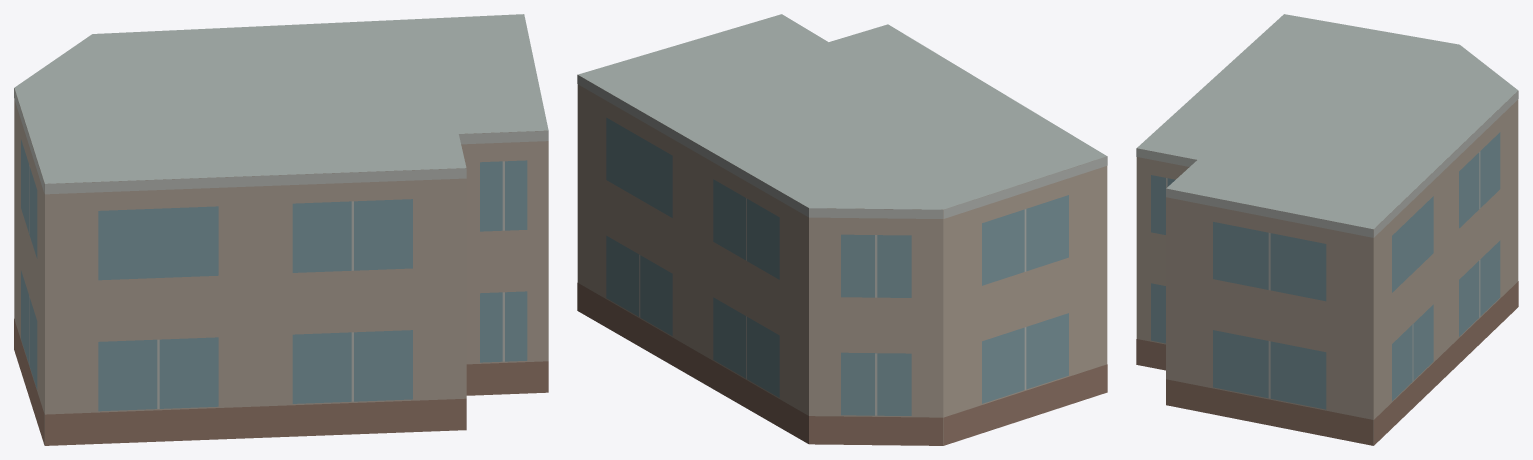
File: survey-upis-32819794.glb
3 renders of one model, left to right at view 1: azimuth 30°, elevation 25°; view 2: azimuth 150°, elevation 25°; view 3: azimuth 270°, elevation 25°, orthographic. The views are drawn at different scales.
Parts seen in each view (by area): view 1: survey-upis-32819794.tmp; view 2: survey-upis-32819794.tmp; view 3: survey-upis-32819794.tmp.
Boxes of the visible parts, x1,y1,x2,y2 form: survey-upis-32819794.tmp: (14, 14, 548, 445); survey-upis-32819794.tmp: (577, 14, 1107, 445); survey-upis-32819794.tmp: (1136, 14, 1518, 445).
Size of the model in its own units: 13.01 by 6.1 by 9.76.
